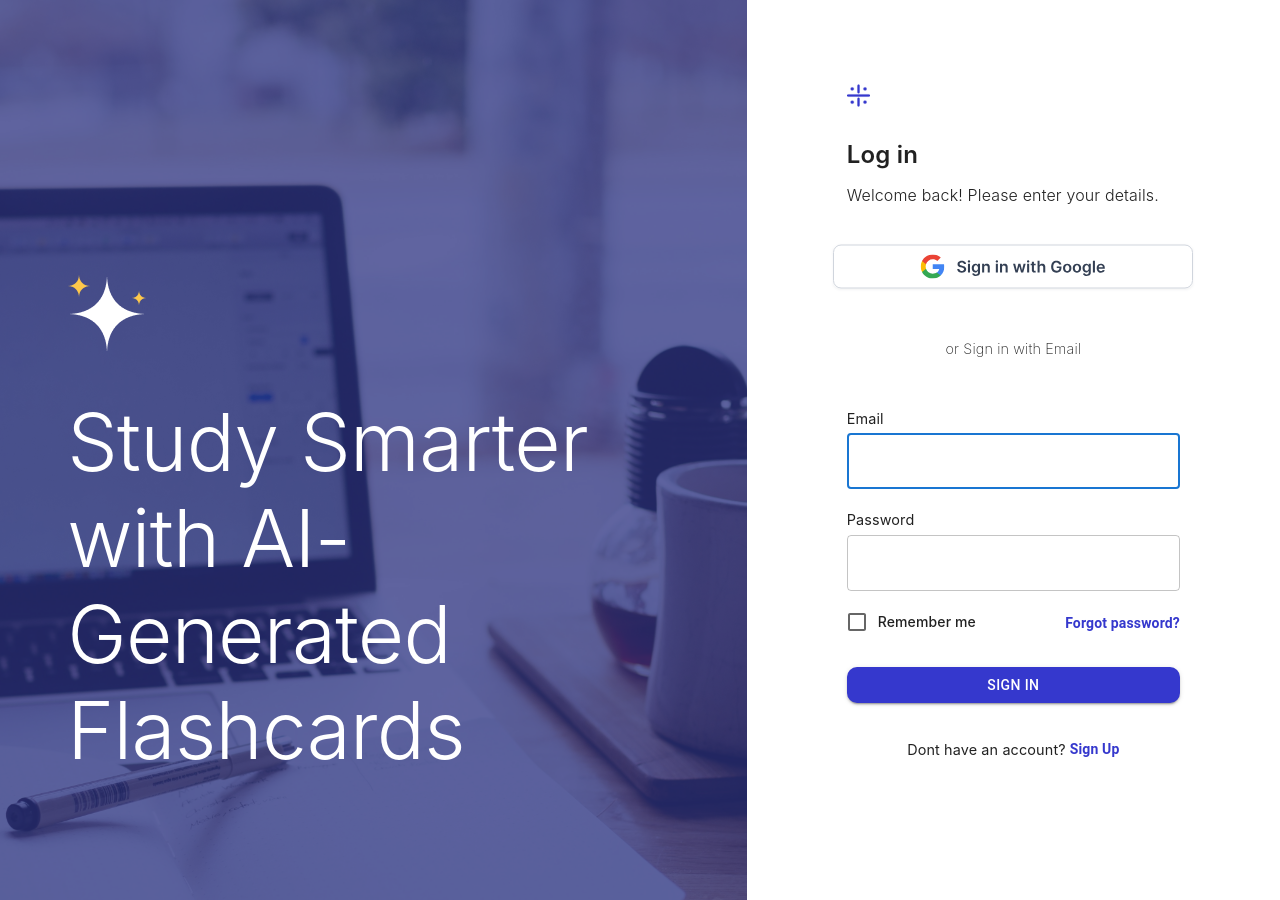
Test case: SignInSide › handles form submission with empty fields
The width and height of the screenshot is (1280, 900).
Click the button "Sign In".
click(1013, 685)  # box [847,667,1180,703]
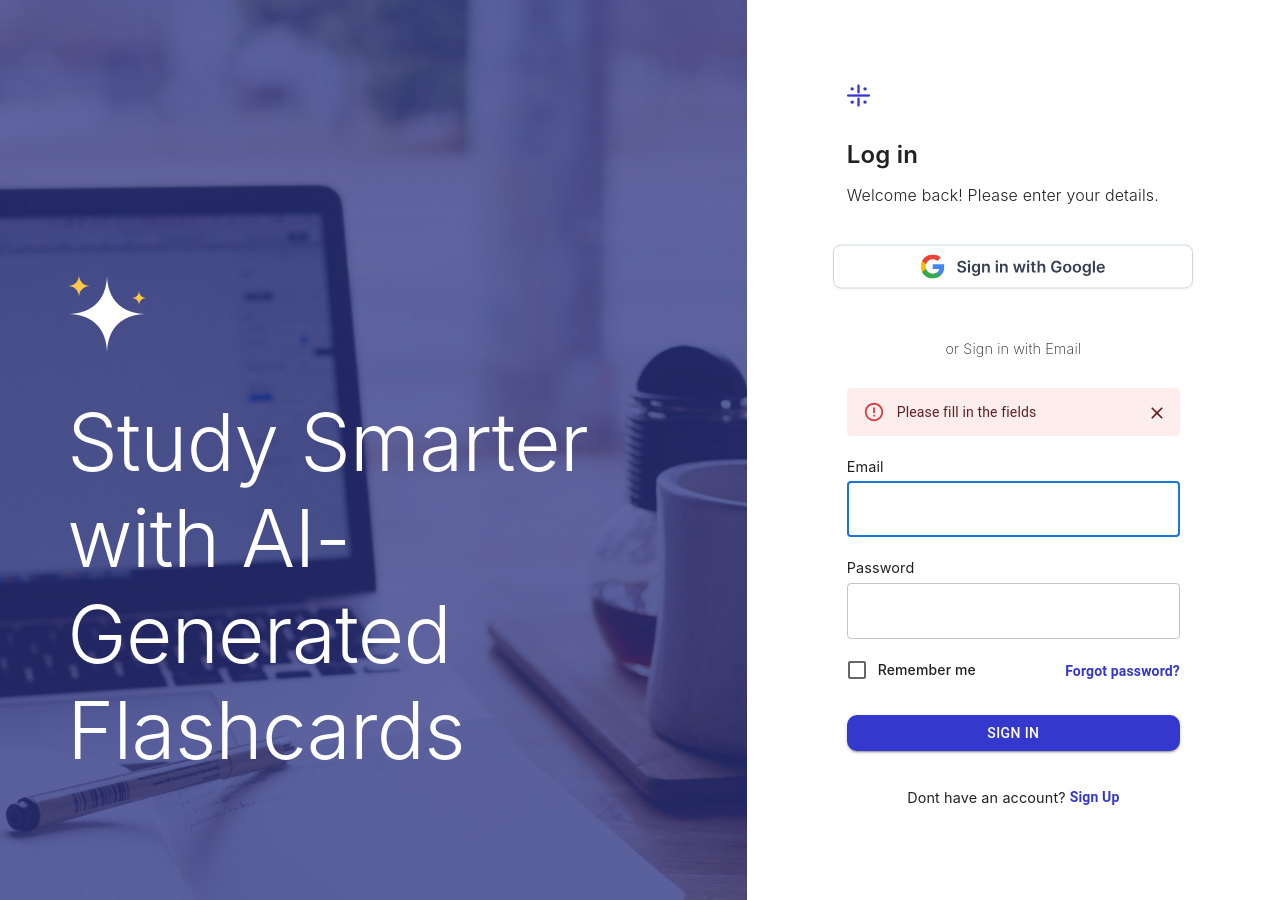
Check: the text "Please fill in the fields" is shown, box [897,404,1036,420]
